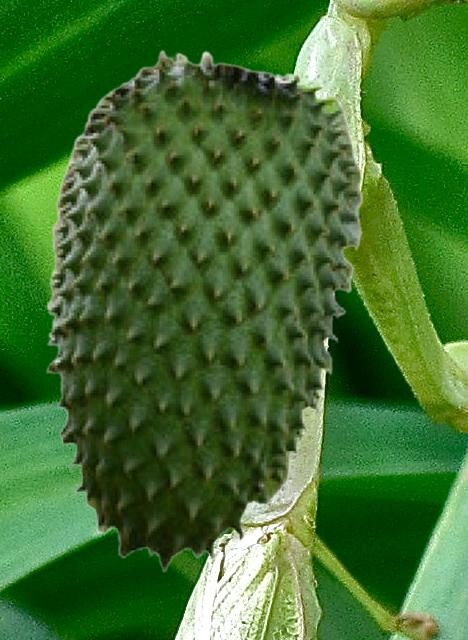guyabano: (45, 49, 363, 571)
